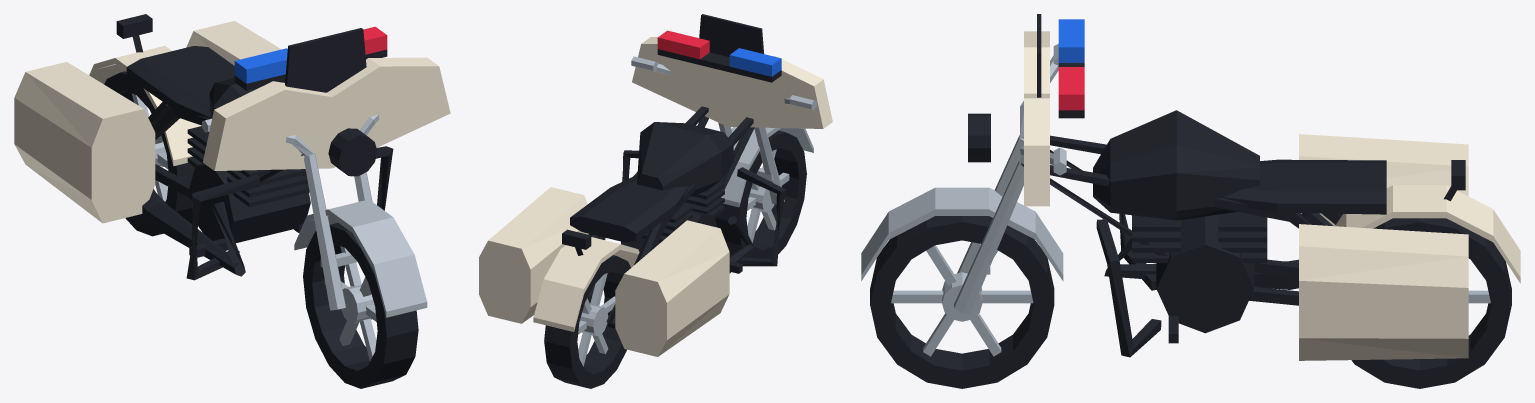
File: cop-moto.glb
3 renders of one model, left to right at view 1: azimuth 30°, elevation 25°; view 2: azimuth 150°, elevation 25°; view 3: azimuth 270°, elevation 25°, orthographic. The views are drawn at different scales.
Visible parts, largest first — view 1: bike_body, wheel_front, fork_mesh, wheel_rear; view 2: bike_body, wheel_rear, wheel_front, fork_mesh; view 3: bike_body, wheel_front, fork_mesh, wheel_rear.
Part boxes in pixels (x1=…): bike_body: x1=14, y1=14, x2=450, y2=280; wheel_front: x1=303, y1=223, x2=418, y2=388; fork_mesh: x1=202, y1=114, x2=427, y2=317; wheel_rear: x1=104, y1=71, x2=194, y2=236; bike_body: x1=479, y1=14, x2=832, y2=356; wheel_rear: x1=544, y1=255, x2=630, y2=388; wheel_front: x1=715, y1=130, x2=806, y2=258; fork_mesh: x1=631, y1=56, x2=816, y2=207; bike_body: x1=968, y1=14, x2=1520, y2=360; wheel_front: x1=870, y1=216, x2=1054, y2=388; fork_mesh: x1=861, y1=44, x2=1066, y2=313; wheel_rear: x1=1351, y1=218, x2=1511, y2=388.
Size of the model in its own units: 1.04 by 1.33 by 2.29.
